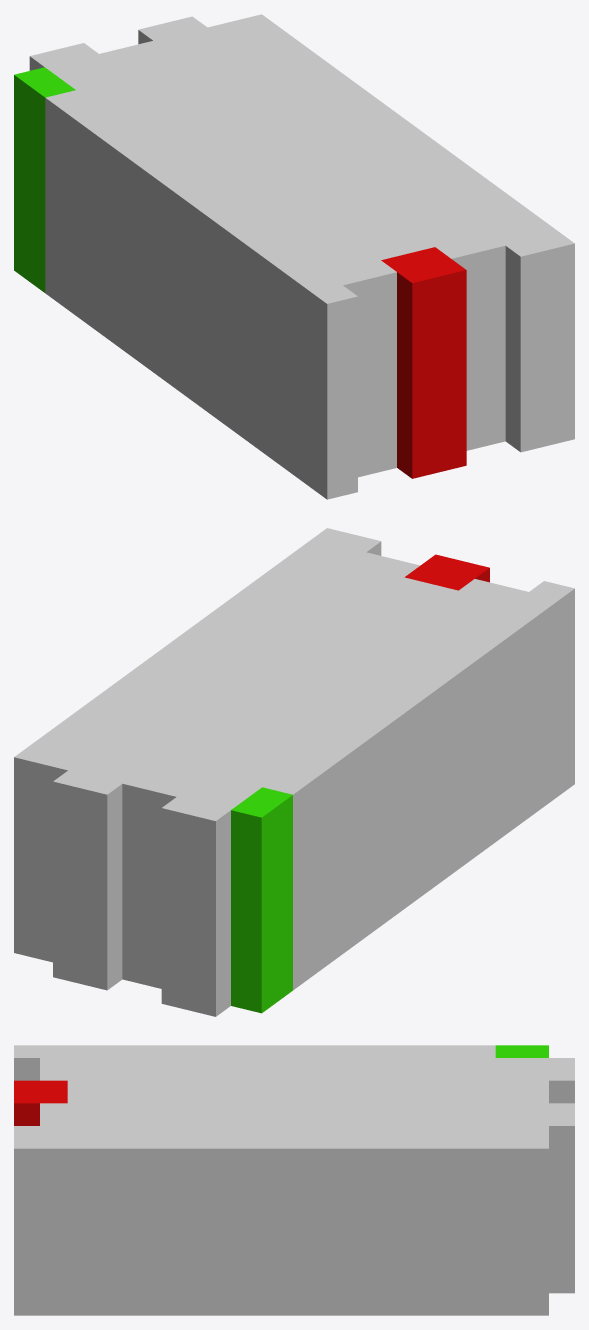
File: Tile Base.fbx
3 views of the same model, one above another, from view 1: azimuth 30°, elevation 25°; view 2: azimuth 150°, elevation 25°; view 3: azimuth 270°, elevation 25° (orthographic). The views are drawn at different scales.
Visible parts, largest first — view 1: Cube_2, Cube, Cube_4, Cube_1, Cube_3, Cube_19, Cube_9, Cube_49, Cube_44, Cube_24, Cube_14, Cube_39 (+38 smaller); view 2: Cube_46, Cube_48, Cube_49, Cube_45, Cube_47, Cube_44, Cube_39, Cube_29, Cube_34, Cube_19, Cube_24, Cube_14 (+38 smaller); view 3: Cube_47, Cube_42, Cube_37, Cube_32, Cube_27, Cube_22, Cube_17, Cube_12, Cube_7, Cube_2, Cube_46, Cube (+38 smaller).
Boxes of the visible parts, x1=… form: Cube_2: x1=489, y1=220, x2=574, y2=452; Cube: x1=381, y1=247, x2=466, y2=478; Cube_4: x1=296, y1=273, x2=357, y2=499; Cube_1: x1=420, y1=223, x2=505, y2=450; Cube_3: x1=312, y1=249, x2=396, y2=477; Cube_19: x1=202, y1=204, x2=263, y2=430; Cube_9: x1=264, y1=250, x2=326, y2=476; Cube_49: x1=14, y1=67, x2=75, y2=292; Cube_44: x1=45, y1=90, x2=106, y2=315; Cube_24: x1=170, y1=182, x2=232, y2=407; Cube_14: x1=233, y1=227, x2=294, y2=453; Cube_39: x1=76, y1=113, x2=138, y2=338; Cube_46: x1=53, y1=758, x2=138, y2=990; Cube_48: x1=161, y1=785, x2=246, y2=1016; Cube_49: x1=231, y1=787, x2=292, y2=1013; Cube_45: x1=122, y1=761, x2=207, y2=988; Cube_47: x1=14, y1=734, x2=99, y2=962; Cube_44: x1=262, y1=764, x2=324, y2=990; Cube_39: x1=294, y1=741, x2=355, y2=967; Cube_29: x1=356, y1=695, x2=418, y2=921; Cube_34: x1=325, y1=718, x2=386, y2=944; Cube_19: x1=419, y1=649, x2=480, y2=875; Cube_24: x1=388, y1=672, x2=449, y2=898; Cube_14: x1=450, y1=627, x2=512, y2=852; Cube_47: x1=495, y1=1126, x2=548, y2=1315; Cube_42: x1=442, y1=1126, x2=495, y2=1315; Cube_37: x1=388, y1=1126, x2=441, y2=1315; Cube_32: x1=335, y1=1126, x2=388, y2=1315; Cube_27: x1=281, y1=1126, x2=334, y2=1315; Cube_22: x1=228, y1=1126, x2=281, y2=1315; Cube_17: x1=174, y1=1126, x2=227, y2=1315; Cube_12: x1=121, y1=1126, x2=174, y2=1315; Cube_7: x1=67, y1=1126, x2=120, y2=1315; Cube_2: x1=14, y1=1126, x2=67, y2=1315; Cube_46: x1=521, y1=1103, x2=574, y2=1293; Cube: x1=14, y1=1080, x2=67, y2=1125.
Bounding box in the file's own units: 265 × 200 × 608.
